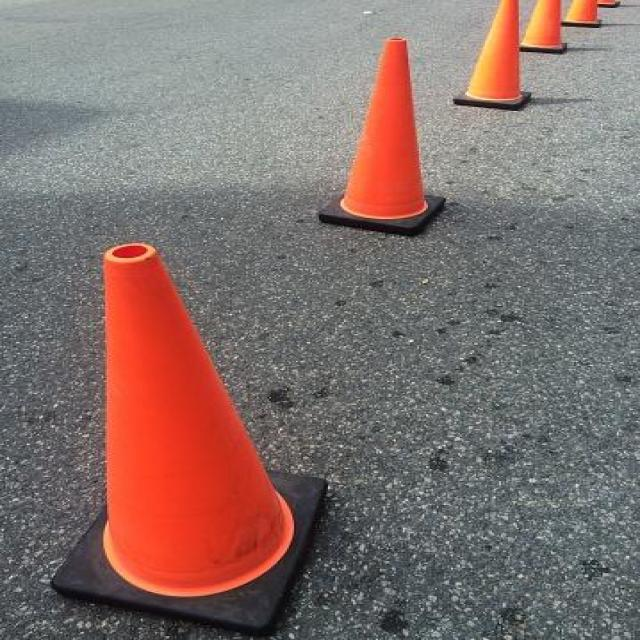Cone: (56, 243, 327, 639), (319, 37, 446, 234), (454, 2, 536, 116), (513, 1, 569, 54), (560, 2, 601, 26)
